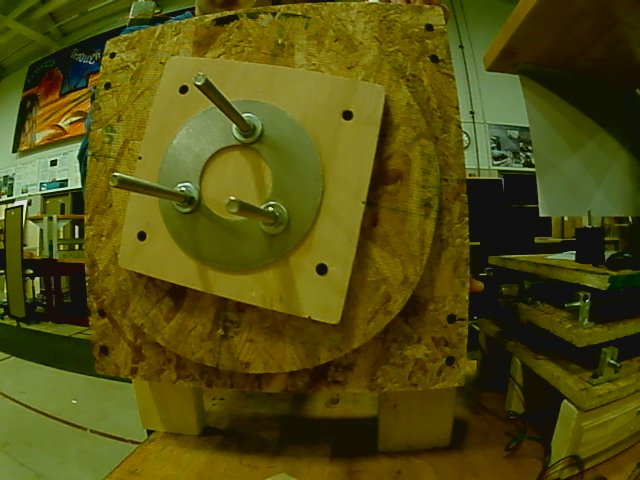bolt: (230, 110, 266, 146), (168, 179, 203, 216), (255, 199, 289, 236)
